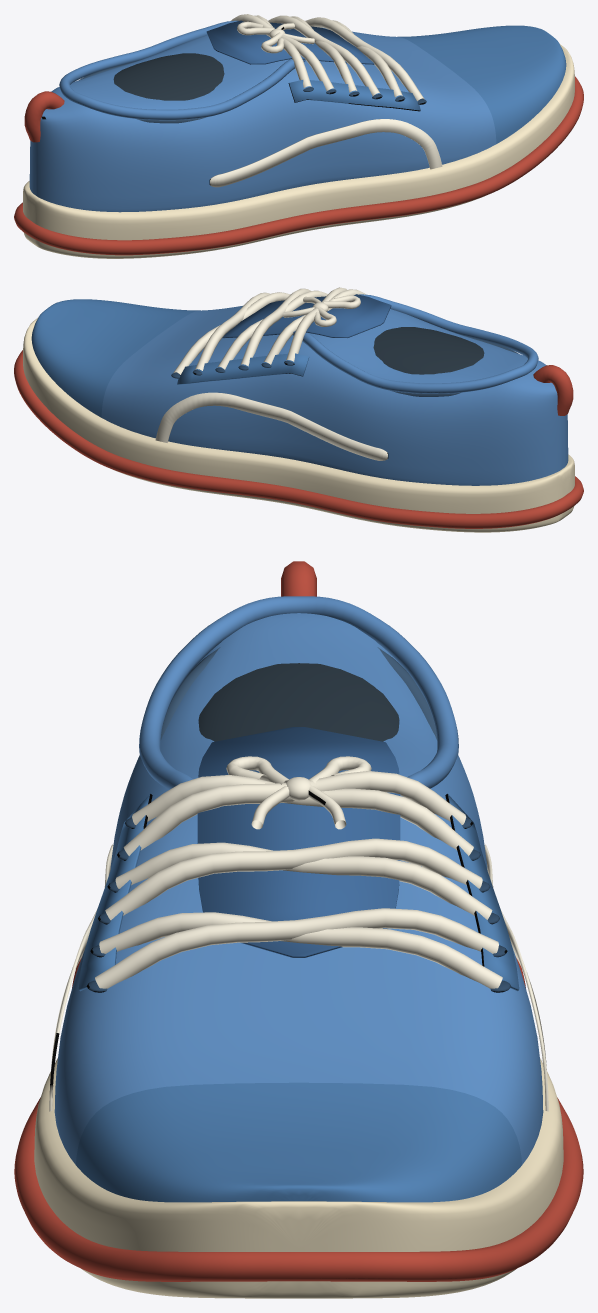
The model's file is shoe.glb.
3 views of the same model, one above another, from view 1: azimuth 30°, elevation 25°; view 2: azimuth 150°, elevation 25°; view 3: azimuth 270°, elevation 25° (orthographic). The views are drawn at different scales.
Visible parts, largest first — view 1: shoe_textured_mesh; view 2: shoe_textured_mesh; view 3: shoe_textured_mesh.
Part boxes in pixels (left/top/right/bottom): shoe_textured_mesh: left=14, top=14, right=583, bottom=258; shoe_textured_mesh: left=14, top=287, right=583, bottom=532; shoe_textured_mesh: left=14, top=561, right=583, bottom=1298.
Size of the model in its own units: 2.09 by 0.6033 by 0.9538.
1 material, 1 textured.
